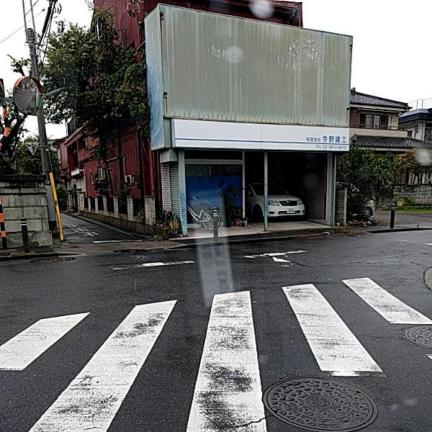Road: (0, 231, 431, 431)
